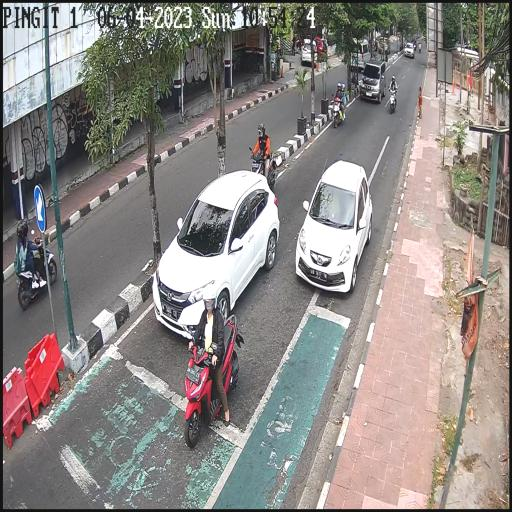mobil: (153, 172, 281, 344), (294, 158, 370, 298), (360, 59, 386, 102), (404, 42, 414, 59)
motor: (184, 315, 240, 446), (250, 140, 280, 188), (332, 94, 346, 128), (388, 86, 398, 115)
